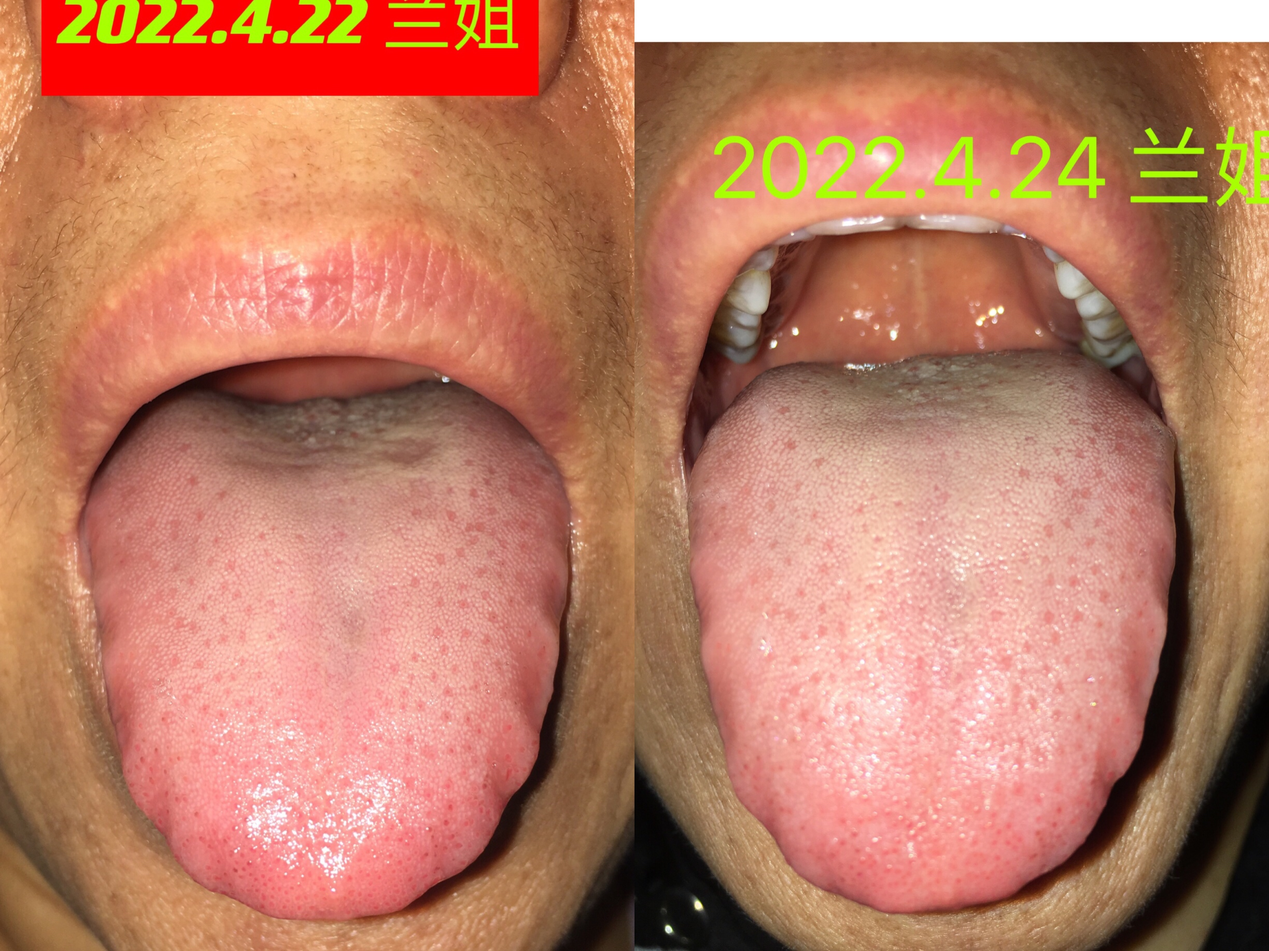baitaishe: (687, 350, 1177, 914), (84, 378, 572, 924)
chihenshe: (1107, 602, 1173, 723), (506, 627, 568, 742), (114, 744, 181, 847), (441, 818, 451, 830), (230, 863, 239, 876)
hongdianshe: (847, 826, 858, 840), (1053, 802, 1063, 815)
hongshe: (83, 377, 571, 923)
